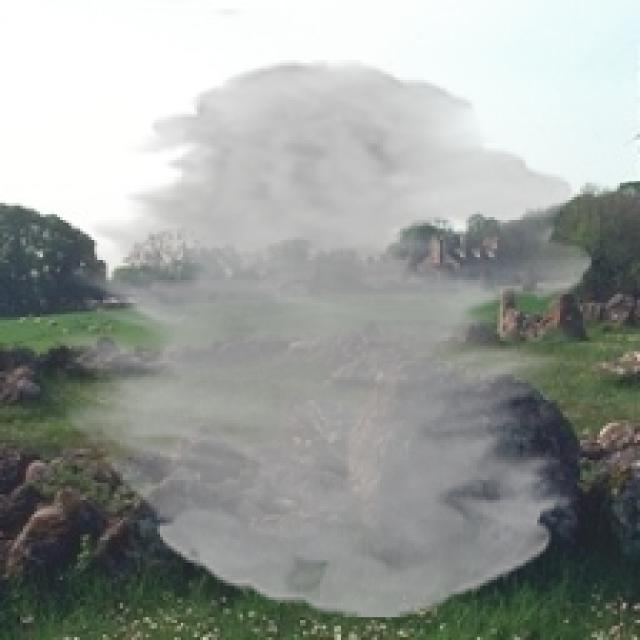smoke: (60, 60, 591, 617)
